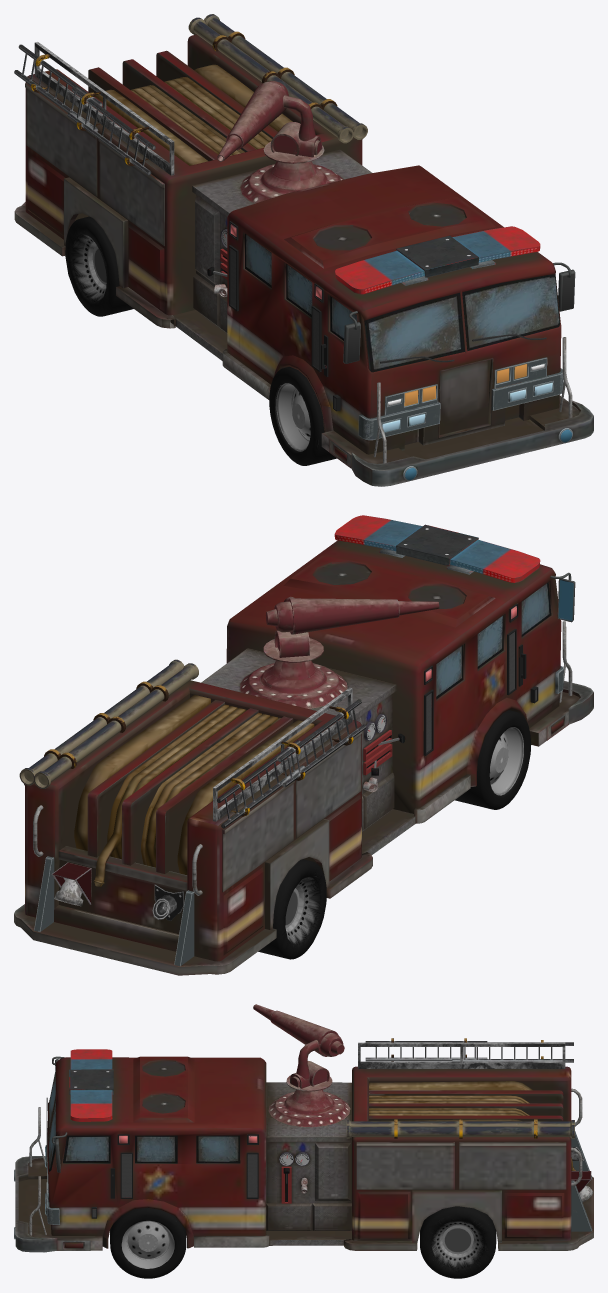
The model's file is firetruck.glb.
3 renders of one model, top to bottom at view 1: azimuth 30°, elevation 25°; view 2: azimuth 150°, elevation 25°; view 3: azimuth 270°, elevation 25°, orthographic. The views are drawn at different scales.
Visible parts, largest first — view 1: body; view 2: body; view 3: body.
Part boxes in pixels (x1,y1,x2,y2): body: (14, 14, 593, 486); body: (14, 515, 593, 975); body: (14, 1004, 593, 1278).
Bounding box in the file's own units: 3.12 × 3.51 × 9.
29 materials, 29 textured.
